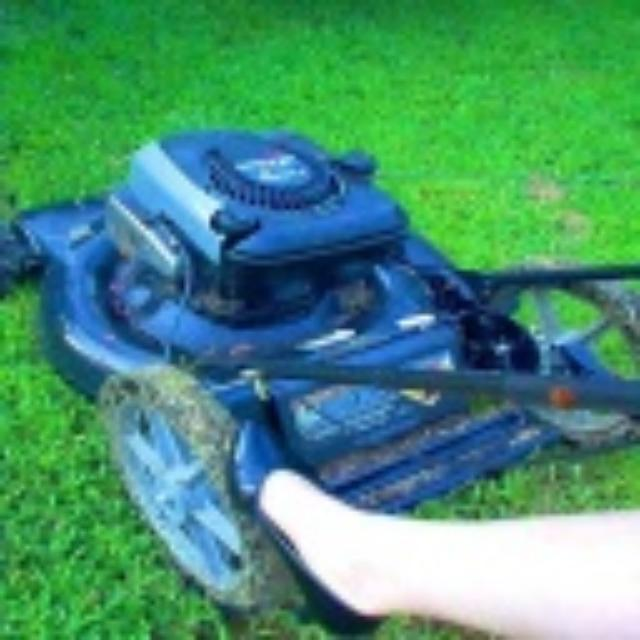Rotary-Mower: (1, 120, 636, 636)
